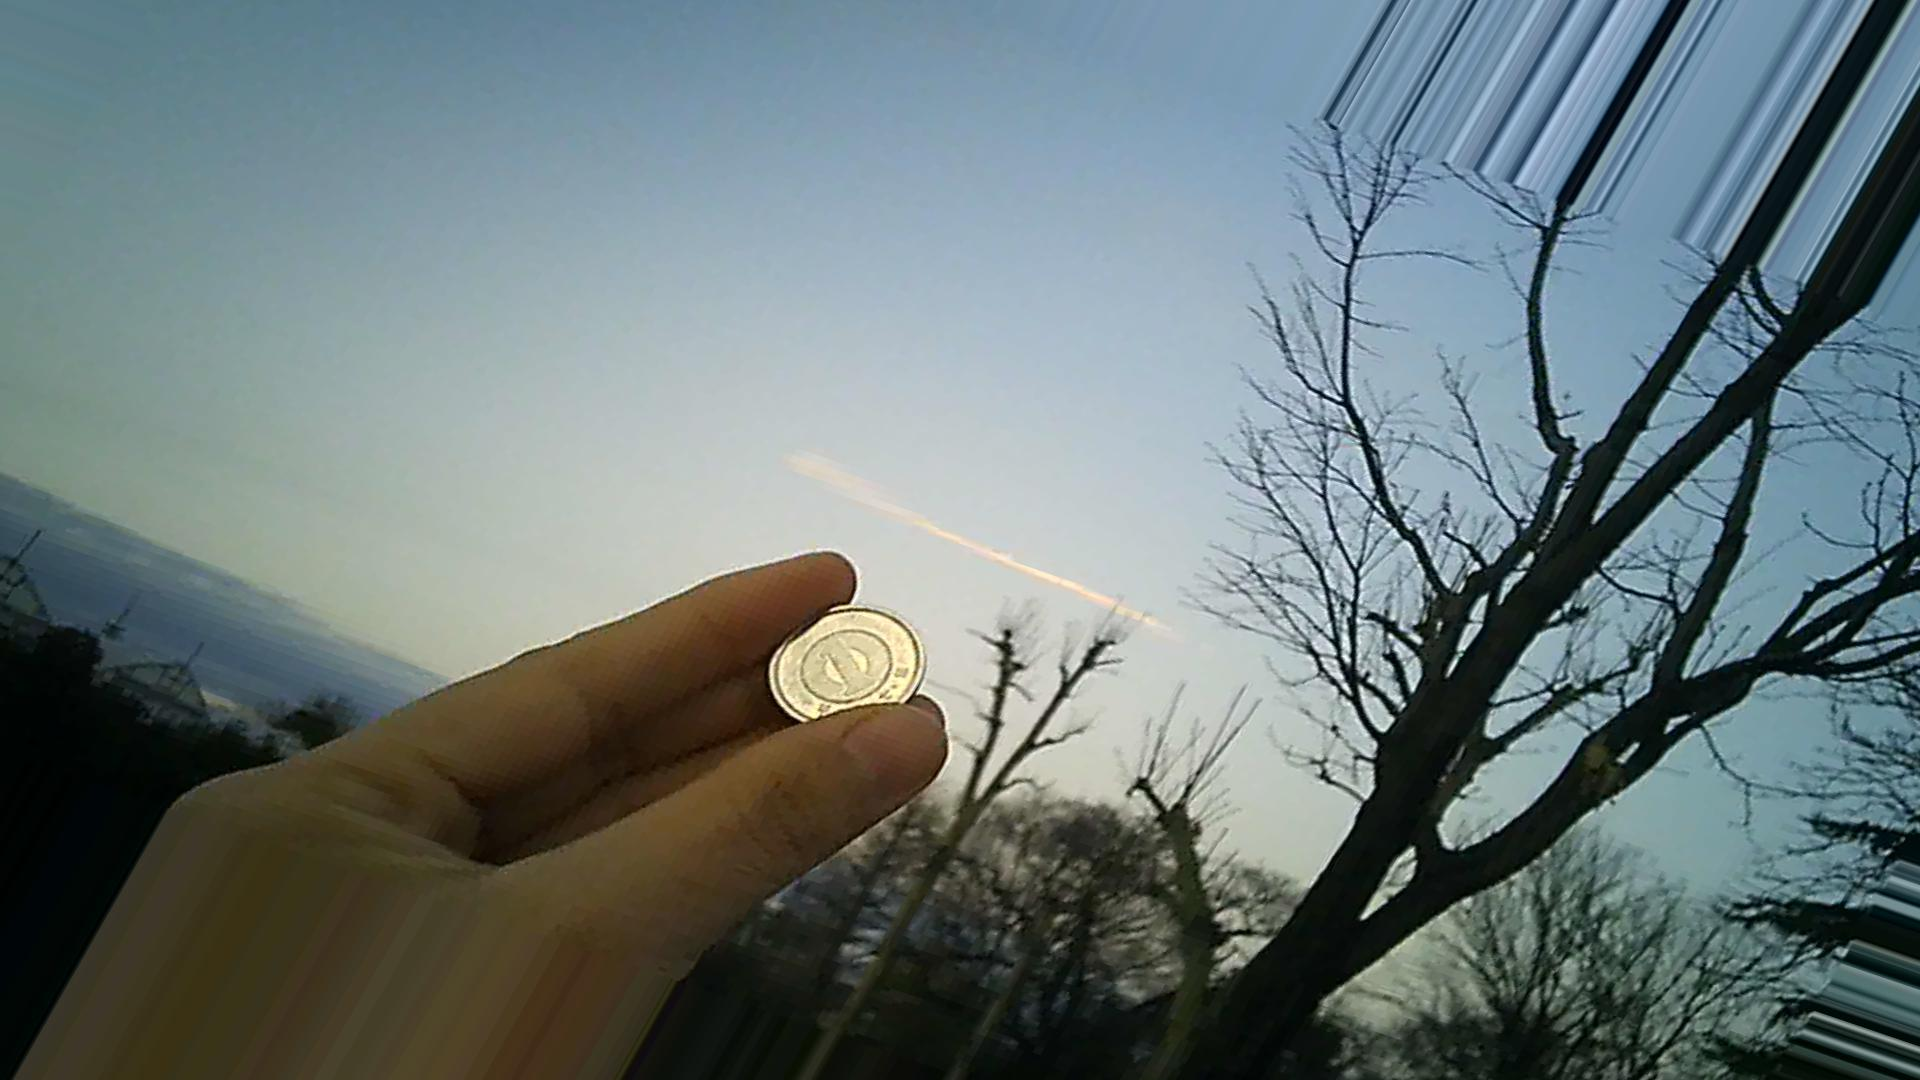1 Yen: (760, 593, 932, 717)
